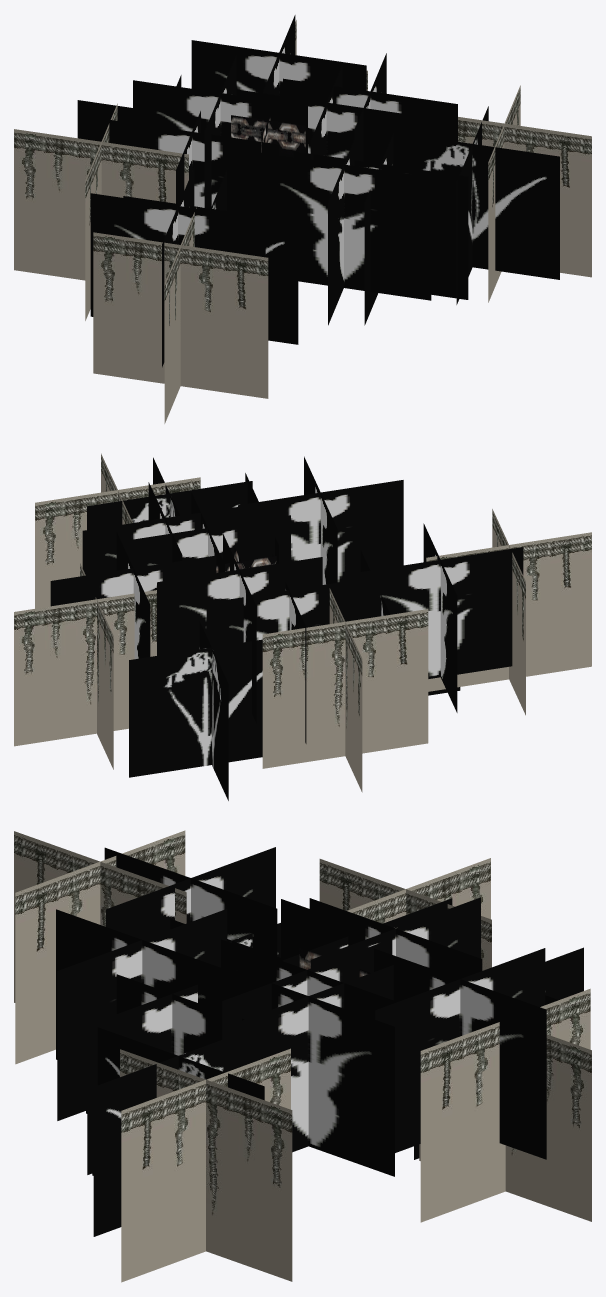
3 views of the same model, one above another, from view 1: azimuth 30°, elevation 25°; view 2: azimuth 150°, elevation 25°; view 3: azimuth 270°, elevation 25° (orthographic). The views are drawn at different scales.
Visible parts, largest first — view 1: Object05; view 2: Object05; view 3: Object05.
Boxes of the visible parts, bbox=[...] form: Object05: bbox=[14, 15, 591, 423]; Object05: bbox=[14, 453, 591, 800]; Object05: bbox=[14, 830, 591, 1282].
Bounding box in the file's own units: 50.27 × 17.39 × 43.77.
